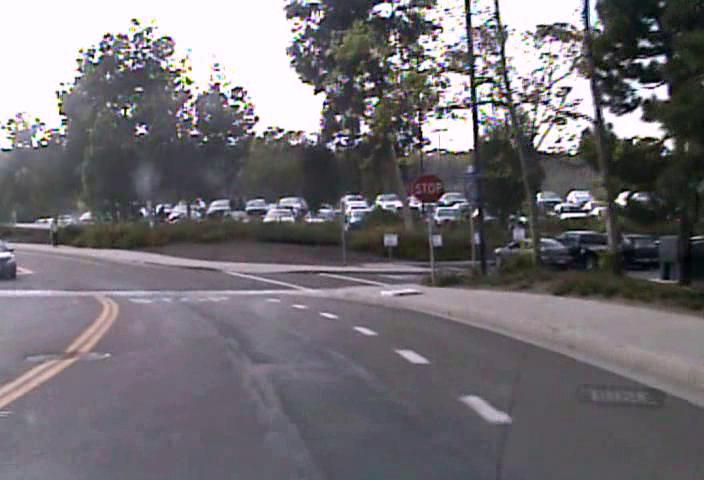stop: (410, 172, 445, 203)
